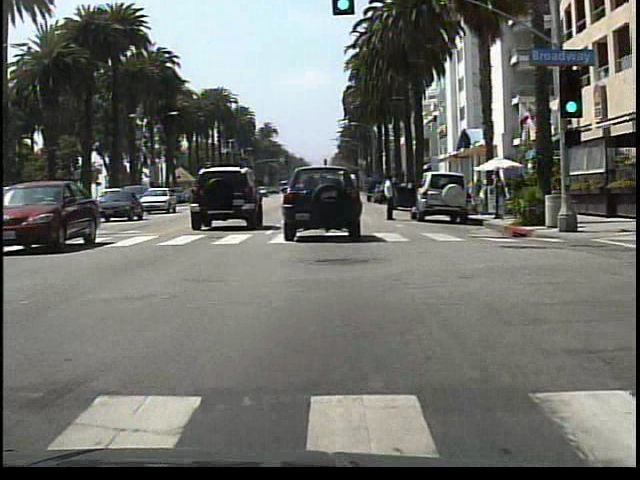person: (379, 170, 402, 226)
